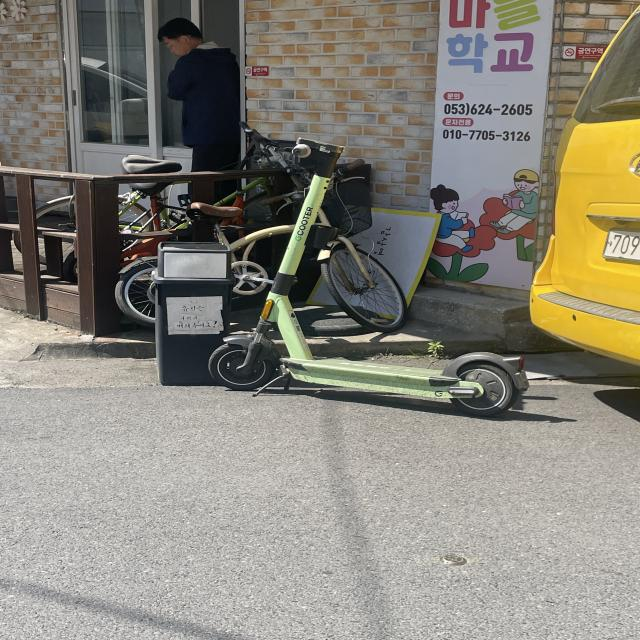kick-board: (208, 139, 527, 415)
road: (2, 381, 638, 640)
